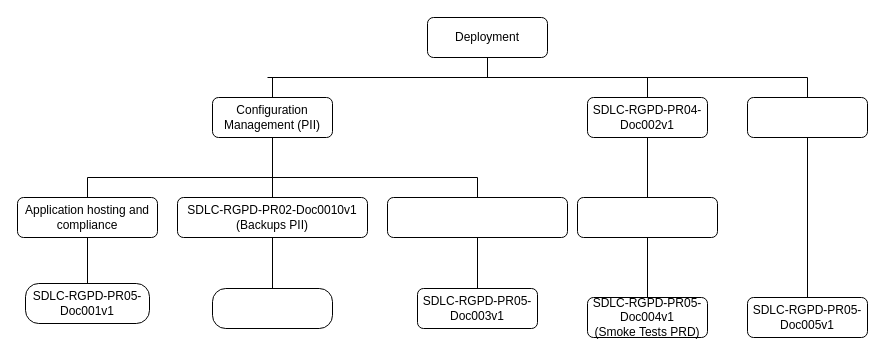
Image size: 885x356. Some labels were removed from this diagram. Here are the shapes that lost their labels. From the top down, the box of each, then its label:
(746, 96, 868, 138): Setup DLP (PII)
(386, 196, 568, 238): Logging and Monitoring of personal data
(576, 196, 718, 238): Security Verification and Audit (PII)
(212, 288, 332, 328): SDLC-RGPD-PR05-Doc002v1
